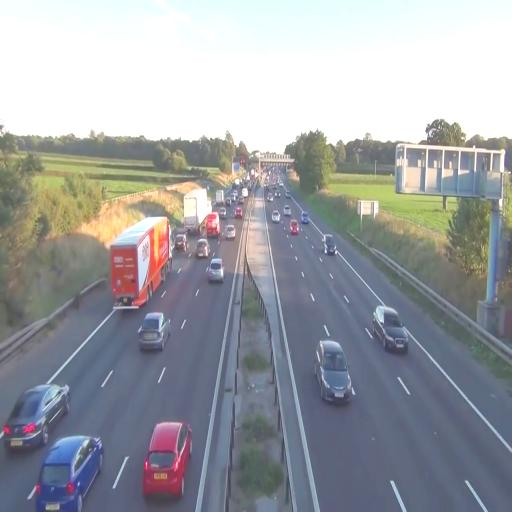vehicle: (109, 213, 171, 310), (30, 433, 104, 511), (1, 383, 71, 453), (142, 419, 192, 500), (315, 339, 354, 403), (366, 302, 408, 354), (138, 312, 170, 353), (206, 257, 224, 284), (202, 212, 220, 238), (173, 229, 188, 253), (220, 222, 236, 242), (196, 238, 210, 260), (324, 235, 336, 254), (289, 221, 299, 236), (272, 208, 280, 222)
